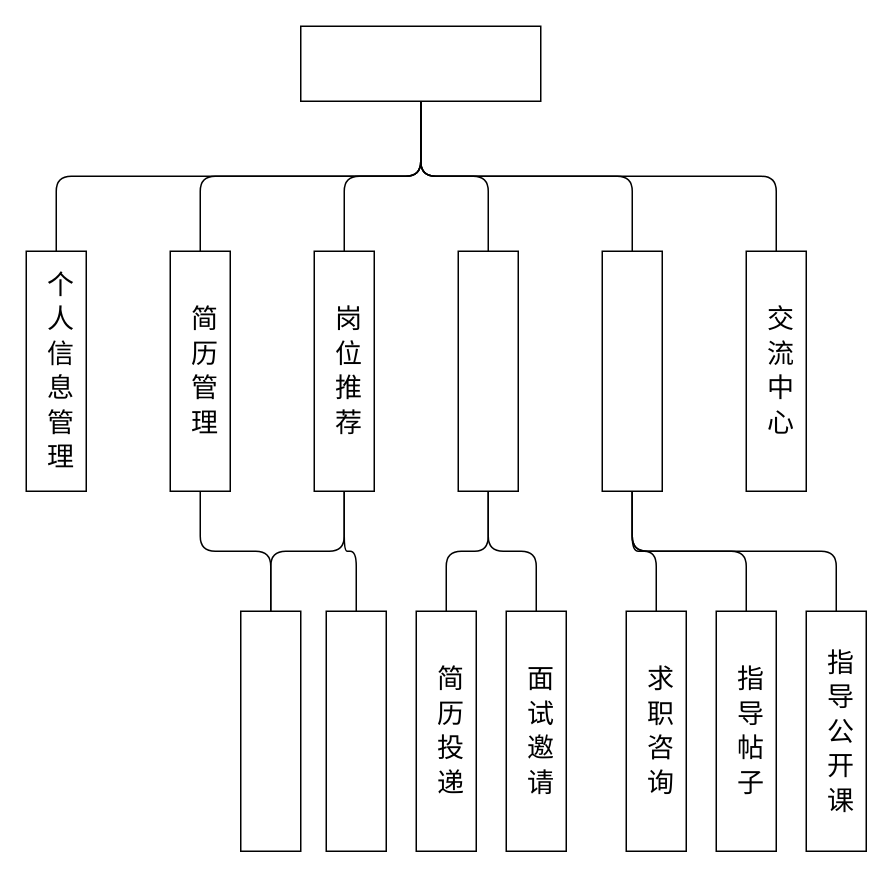
The diagram is 893 pixels wide and 878 high, and some of its shapes have lost their labels. The centre of each missing label's shape, as x and y in pixels:
AI 对 话: pixel 270 730
学生模块: pixel 420 63
就 业 指 导: pixel 631 370
我 的 应 聘 记 录: pixel 487 370
智 能 推 荐: pixel 355 730
